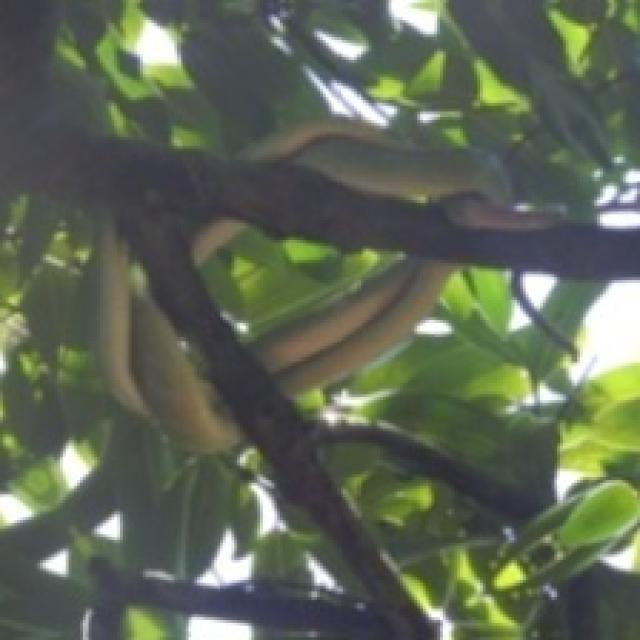red-tailed green ratsnake: (101, 230, 240, 452), (259, 256, 454, 392), (245, 120, 484, 199)
